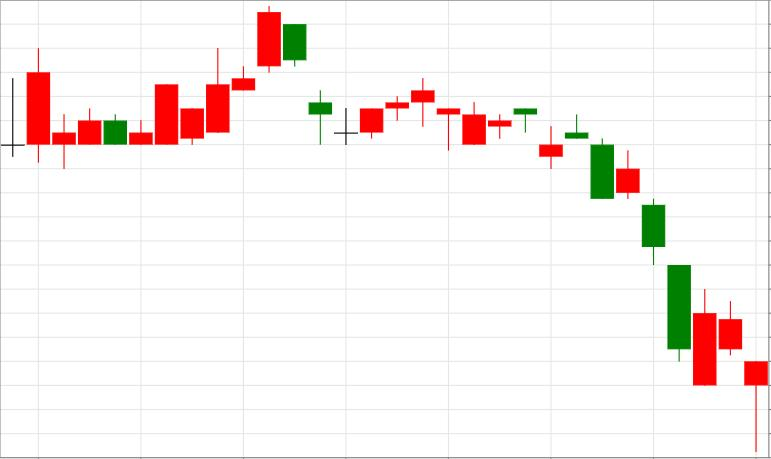hammer_rise: (565, 114, 768, 453)
